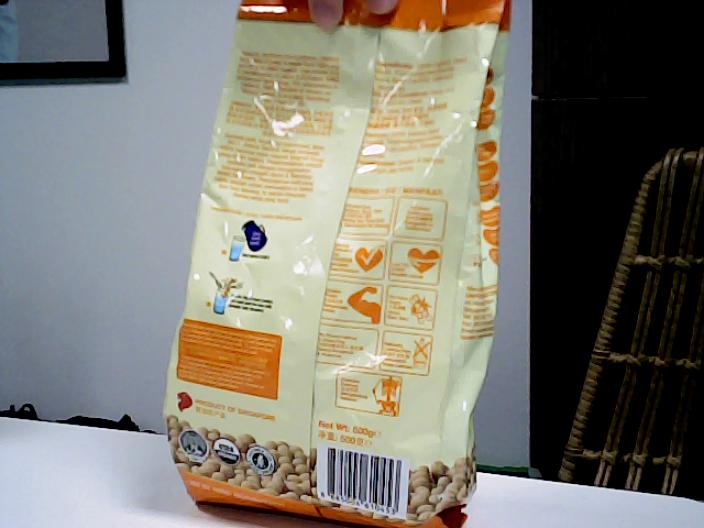Adult_Milk_500-599g_NonHalal_Healthy: (163, 30, 504, 528)
